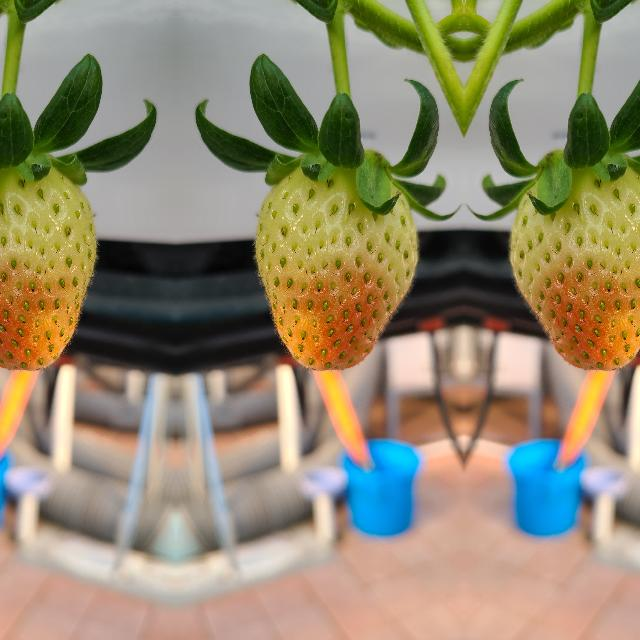Health_50: (250, 168, 420, 374), (506, 167, 640, 374), (0, 167, 100, 374)
